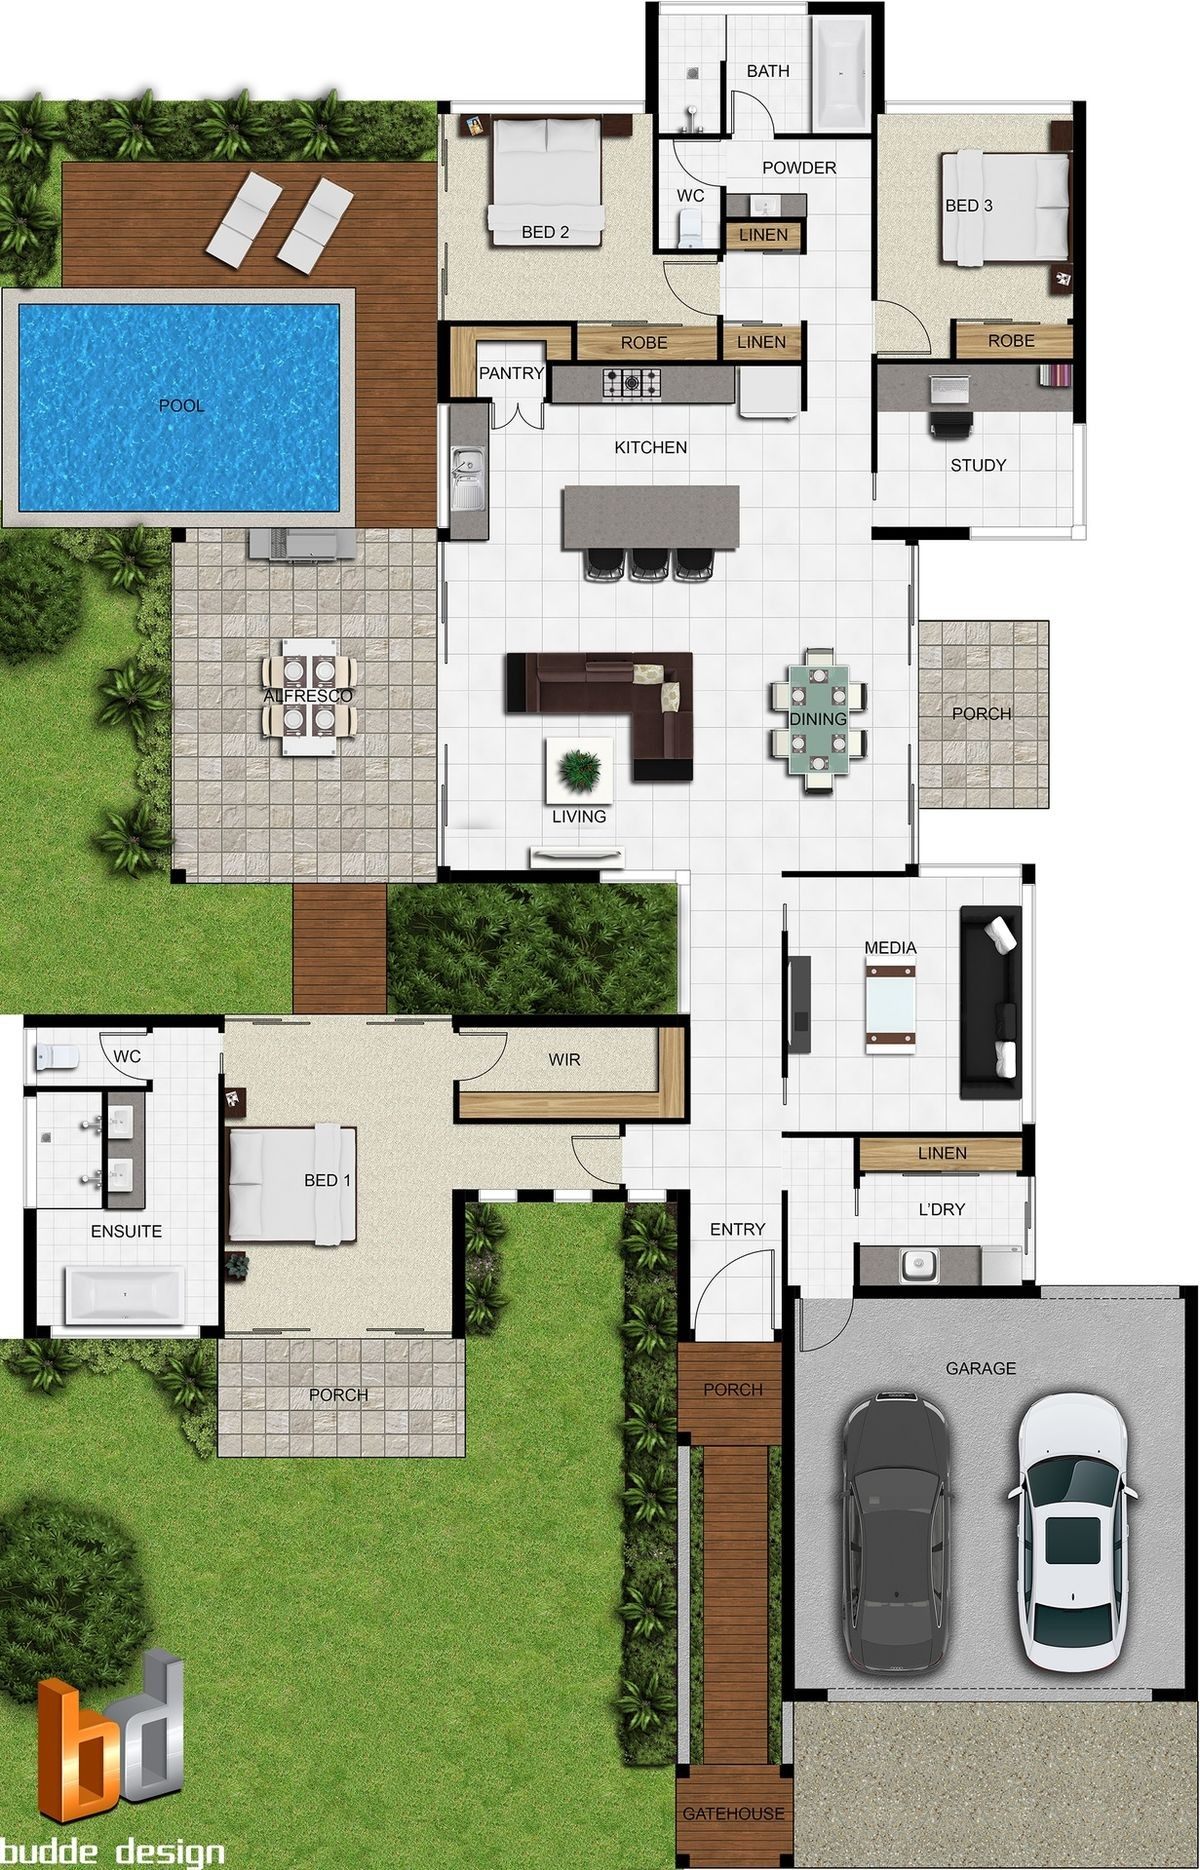door: (693, 1248, 779, 1323), (796, 1302, 860, 1362), (661, 258, 719, 318), (875, 297, 933, 357), (569, 1130, 618, 1187), (95, 1030, 143, 1084), (462, 1030, 510, 1084), (674, 139, 720, 189), (491, 401, 548, 439), (730, 85, 775, 129)
room: (217, 1014, 460, 1337), (783, 874, 1038, 1138), (870, 102, 1085, 364), (436, 99, 659, 324), (871, 358, 1087, 541), (646, 1, 885, 138)
